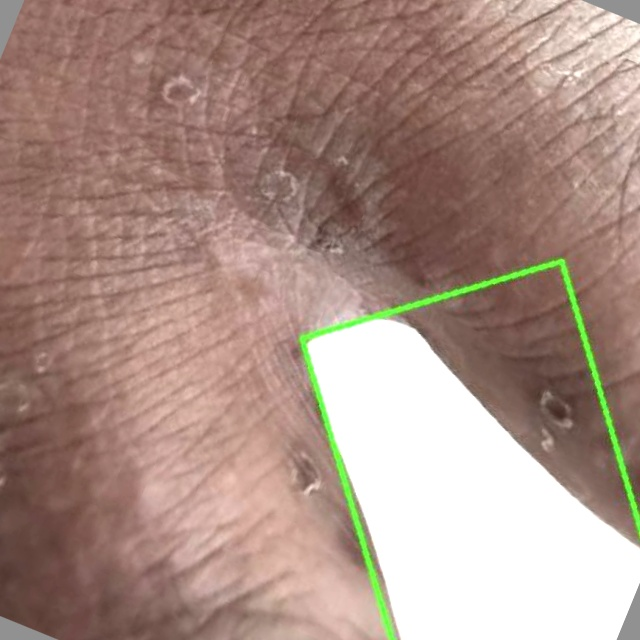Scabies: (298, 261, 576, 639)
